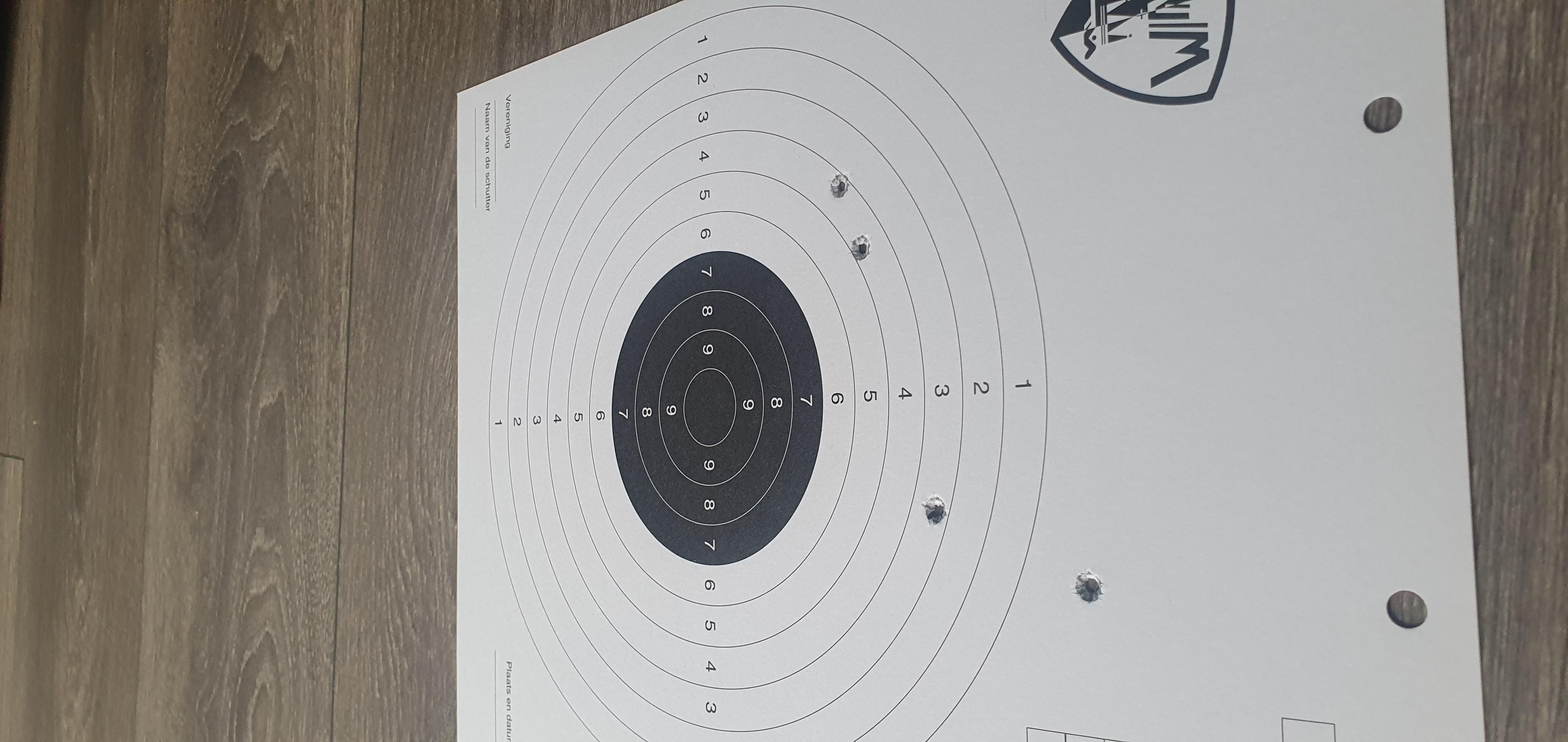hole: (291, 508, 368, 523), (451, 435, 525, 450), (1014, 402, 1076, 414), (1144, 392, 1207, 403)
